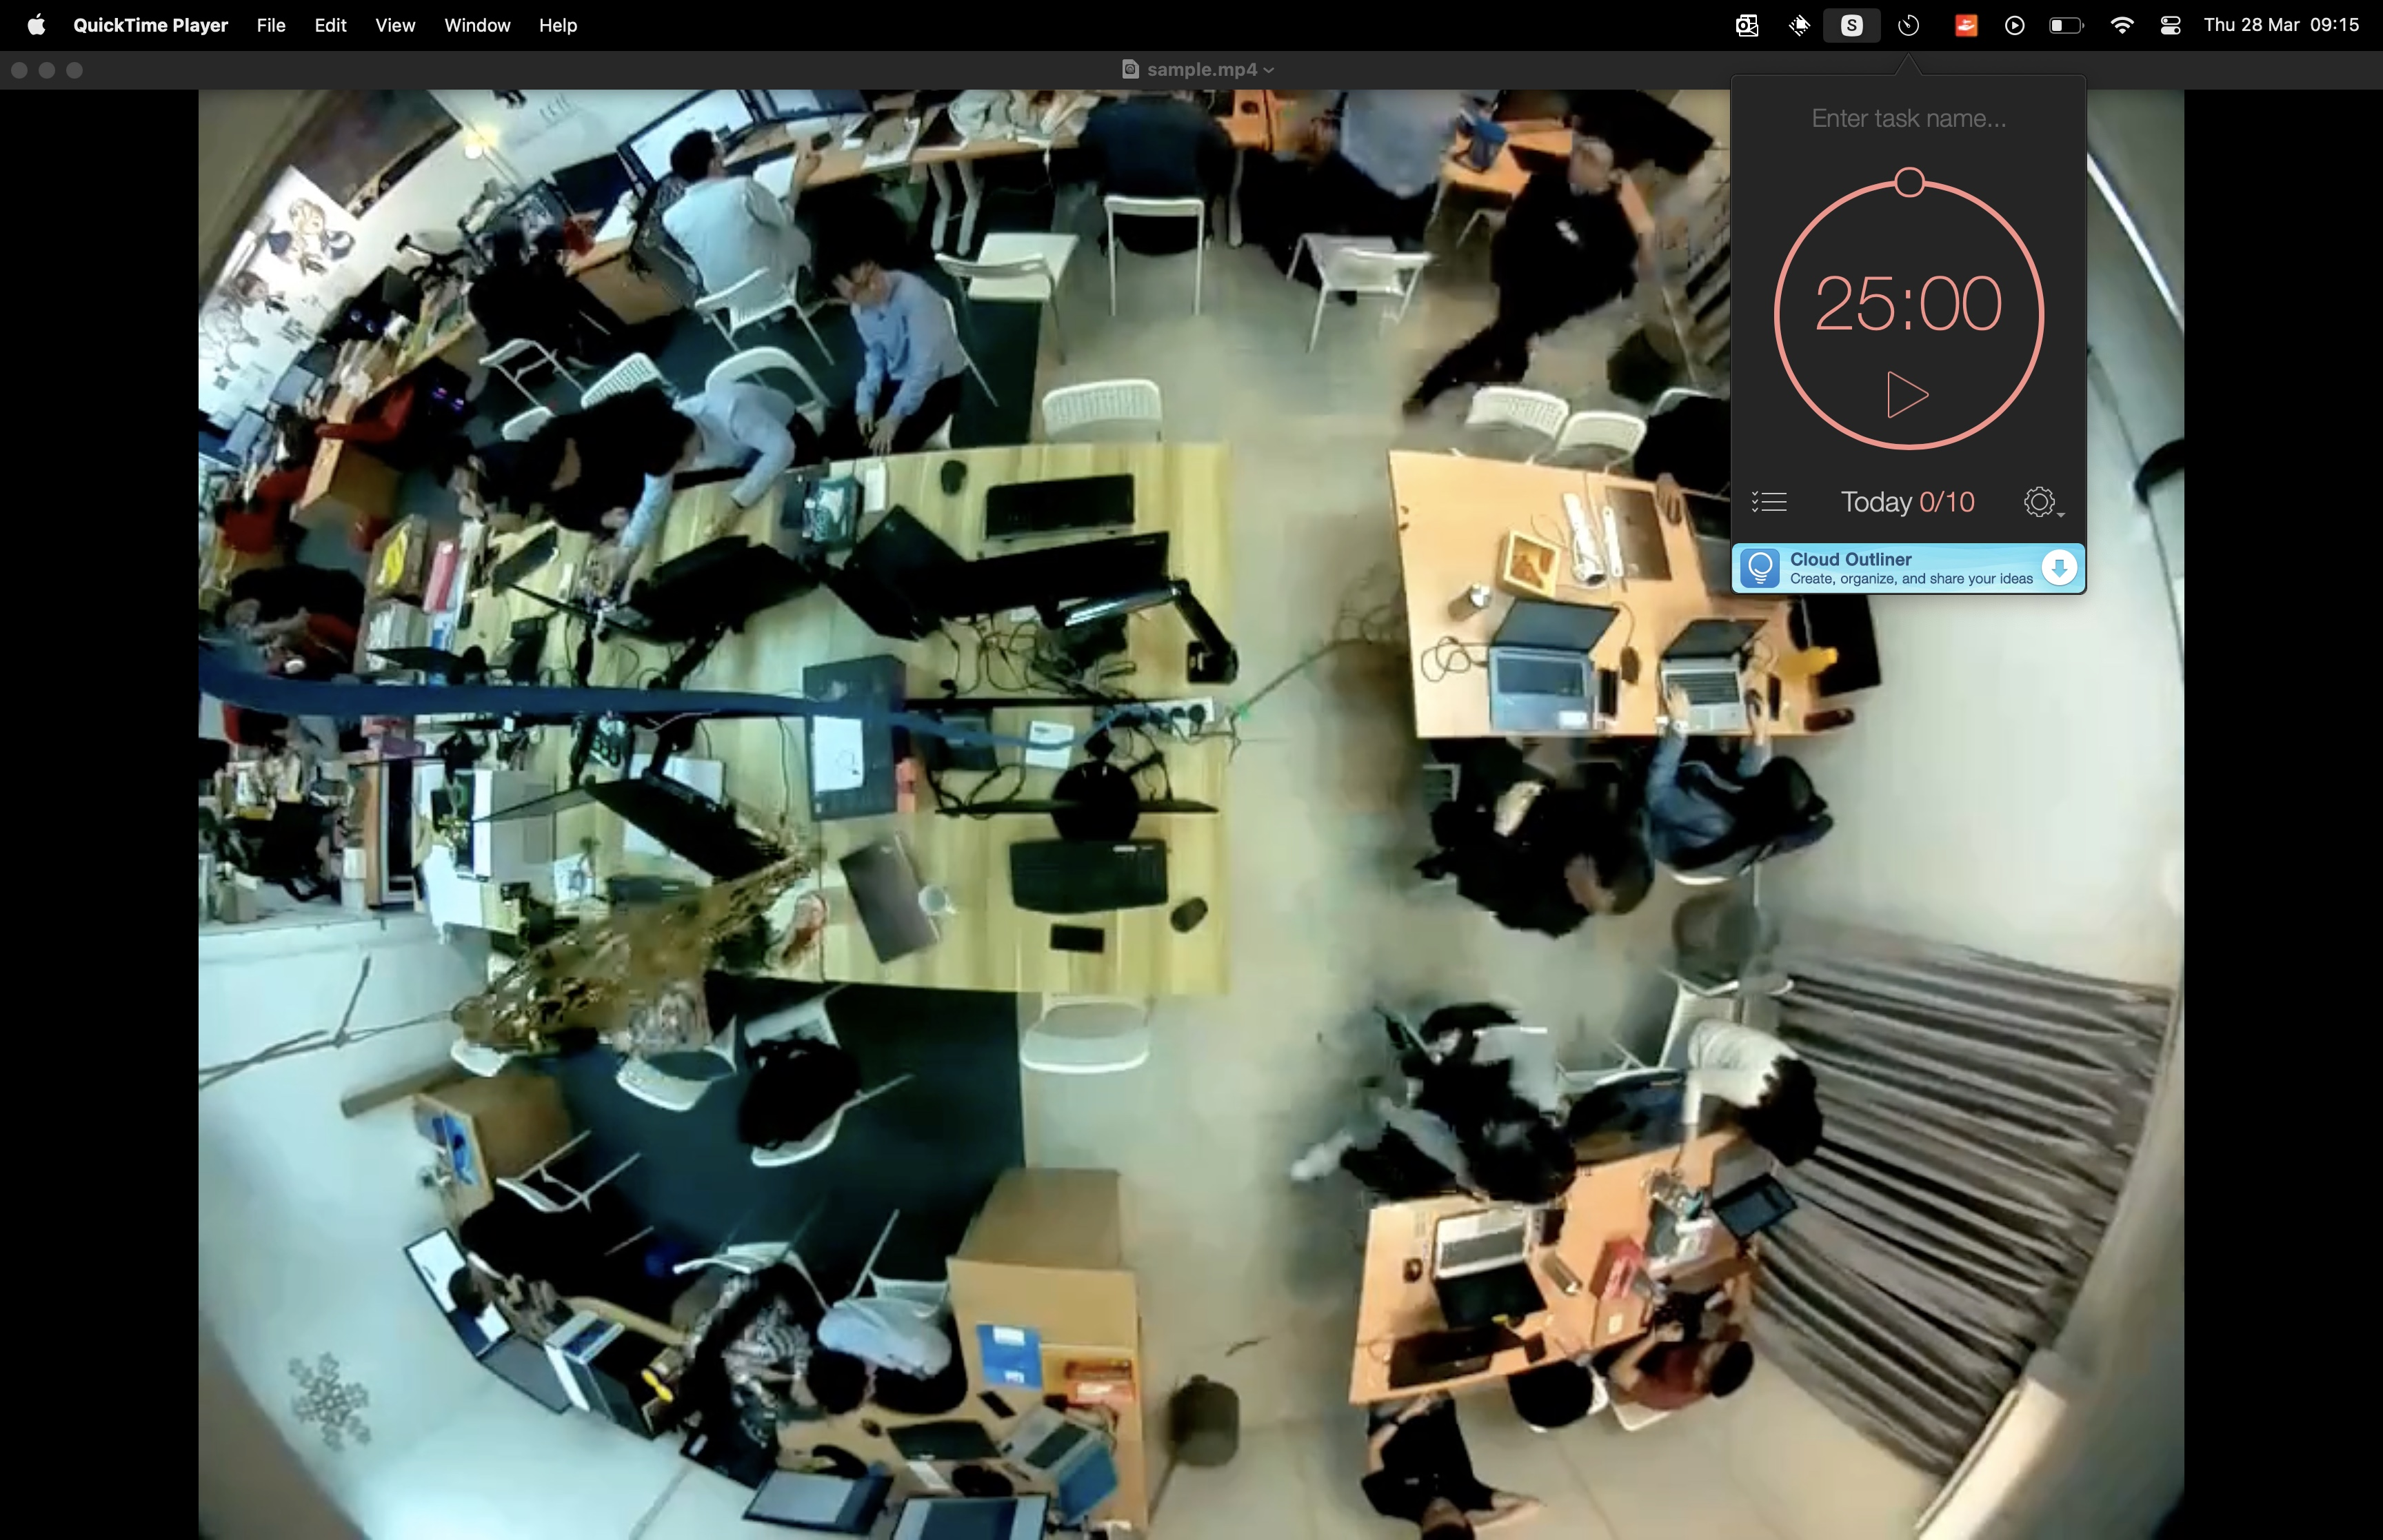Staff: (1416, 128, 1671, 418)
